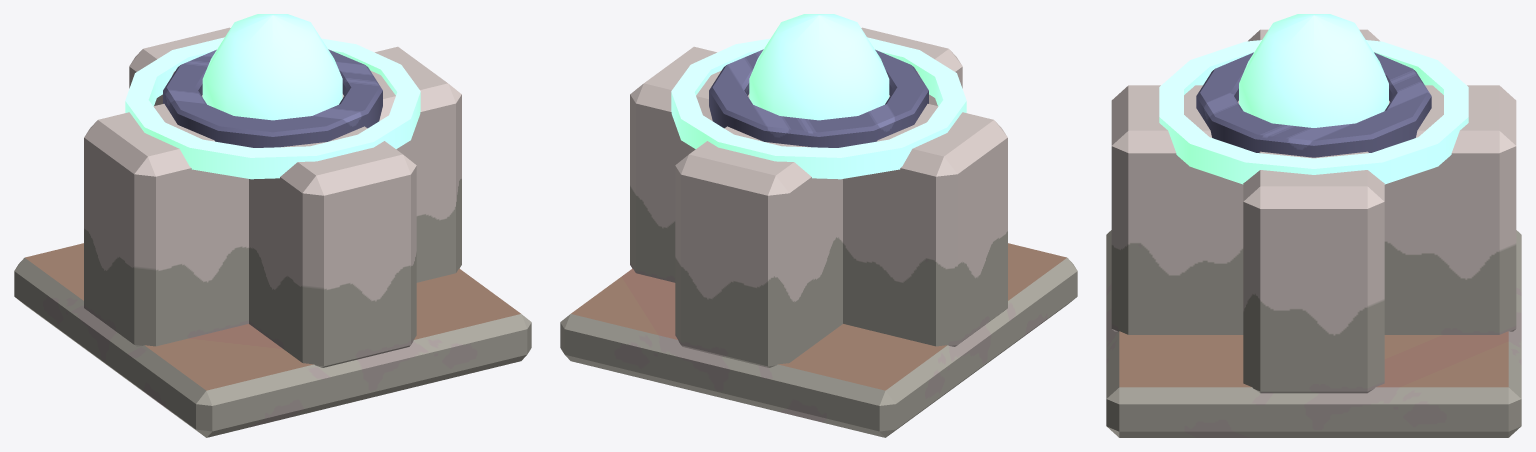
Rendered from R4X_RepairPulse_LOD1.glb.
3 renders of one model, left to right at view 1: azimuth 30°, elevation 25°; view 2: azimuth 150°, elevation 25°; view 3: azimuth 270°, elevation 25°, orthographic. The views are drawn at different scales.
Visible parts, largest first — view 1: R4X_RepairPulse_LOD1; view 2: R4X_RepairPulse_LOD1; view 3: R4X_RepairPulse_LOD1.
Boxes of the visible parts, box(x1,y1,x2,y2) form: R4X_RepairPulse_LOD1: box(14, 14, 531, 437); R4X_RepairPulse_LOD1: box(560, 14, 1077, 437); R4X_RepairPulse_LOD1: box(1106, 14, 1521, 437).
Bounding box in the file's own units: 0.52 × 0.4704 × 0.52.
Materials: 4 (3 with a texture image).
